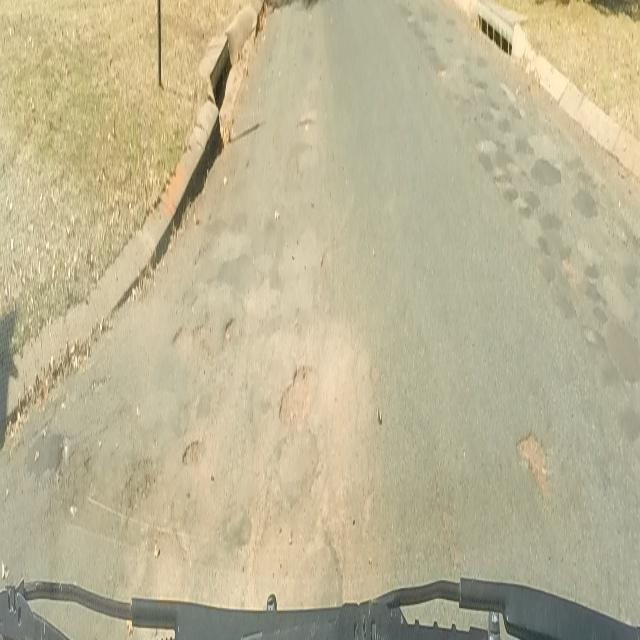pothole: (278, 352, 318, 439), (512, 426, 556, 505), (180, 432, 209, 471), (224, 312, 236, 348)
